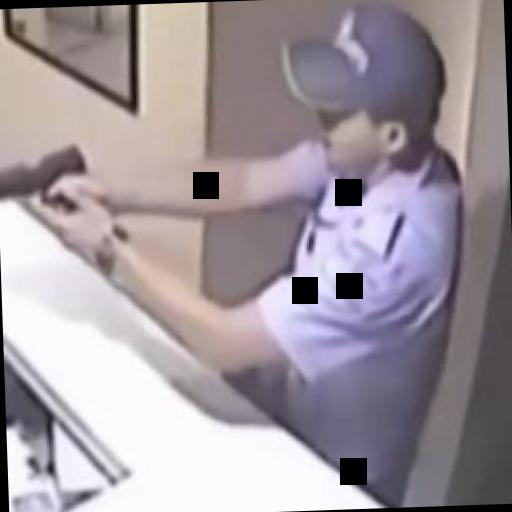Handgun: (0, 138, 100, 221)
